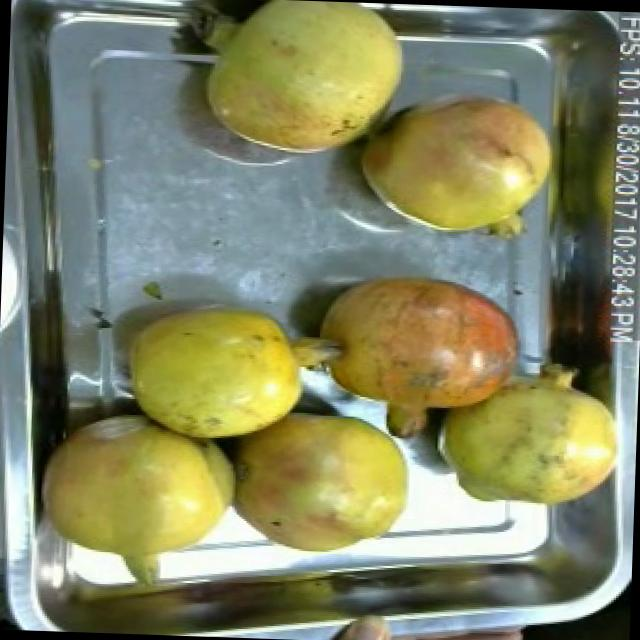fruit: (286, 253, 540, 452), (174, 0, 430, 181), (336, 75, 572, 262), (417, 338, 639, 531), (105, 276, 329, 458), (214, 390, 432, 570)
